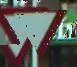Give way: (1, 3, 68, 66)
